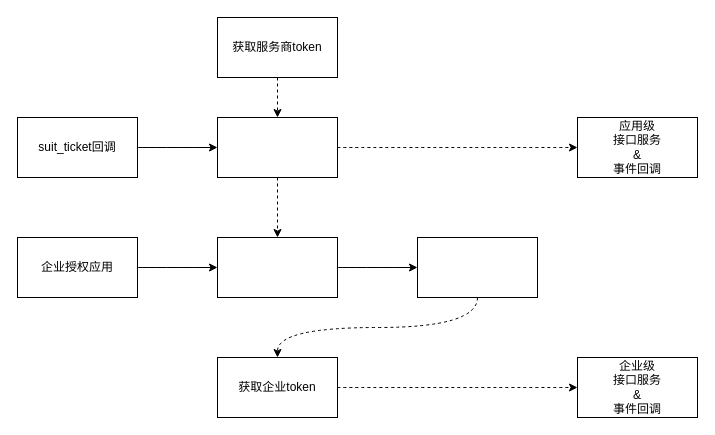
The diagram is 715 pixels wide and 435 high, and some of its shapes have lost their labels. Each missing label, with the centre of its shape:
"临时授权码" belongs at point 277,267.
"永久授权码" belongs at point 477,267.
"获取应用token" belongs at point 277,147.
